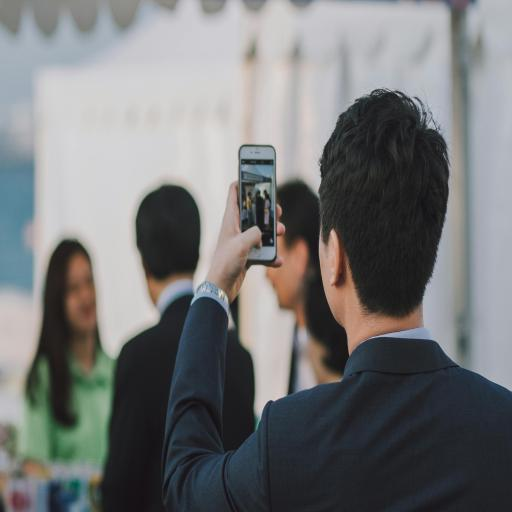person: (160, 87, 512, 511), (100, 184, 256, 511), (20, 238, 118, 511), (265, 178, 349, 398)
tie: (288, 323, 300, 396)
